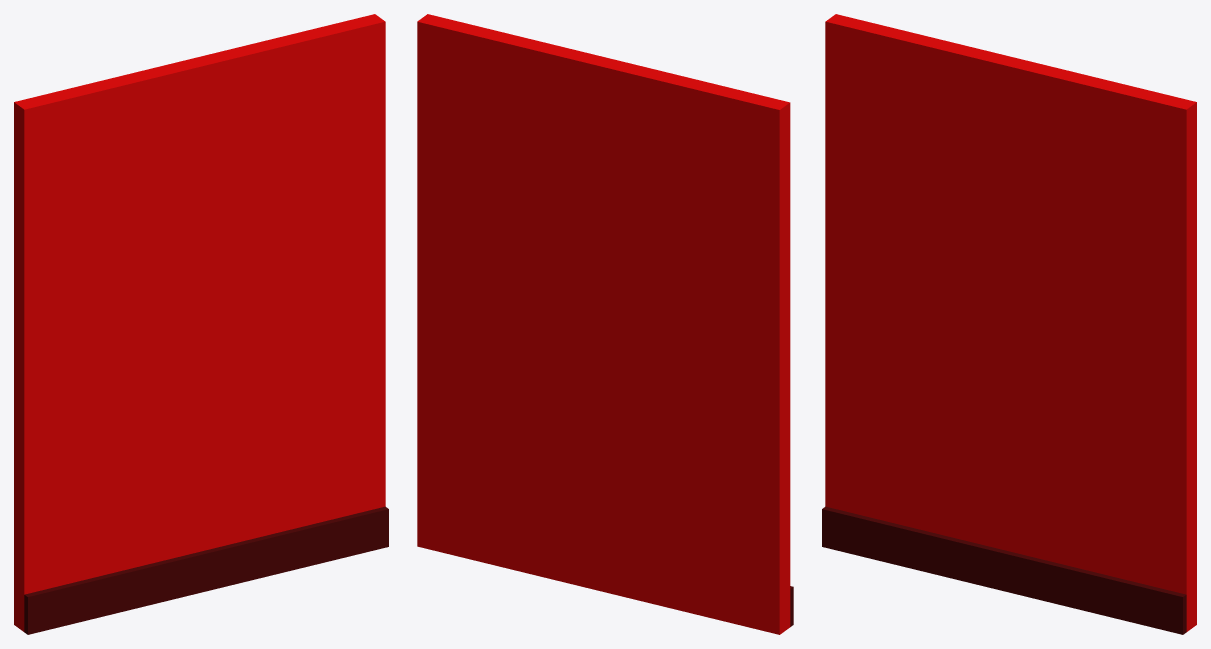
The model's file is Wall.glb.
3 renders of one model, left to right at view 1: azimuth 30°, elevation 25°; view 2: azimuth 150°, elevation 25°; view 3: azimuth 330°, elevation 25°, orthographic.
Visible parts, largest first — view 1: Wall; view 2: Wall; view 3: Wall.
Part boxes in pixels (box(x1,y1,x2,y2)): Wall: box(14, 14, 388, 634); Wall: box(417, 14, 793, 634); Wall: box(822, 14, 1196, 634).
Bounding box in the file's own units: 6 × 8.3 × 0.4.
